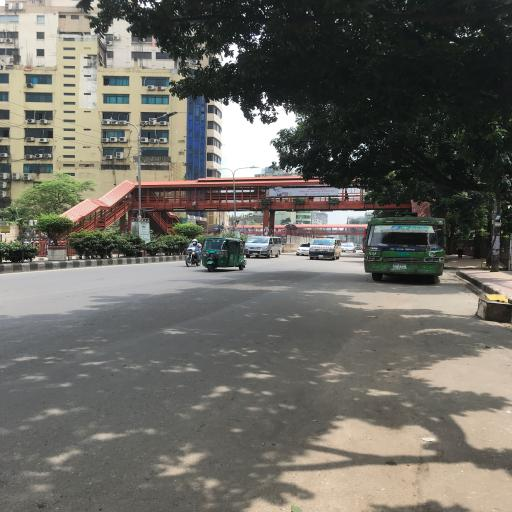ambulance: (309, 237, 343, 263)
bus: (362, 216, 450, 285)
car: (297, 244, 312, 258), (342, 246, 358, 254)
motorbike: (182, 246, 204, 269)
three wheelers (CNG): (202, 237, 250, 274)
van: (245, 237, 286, 260)
